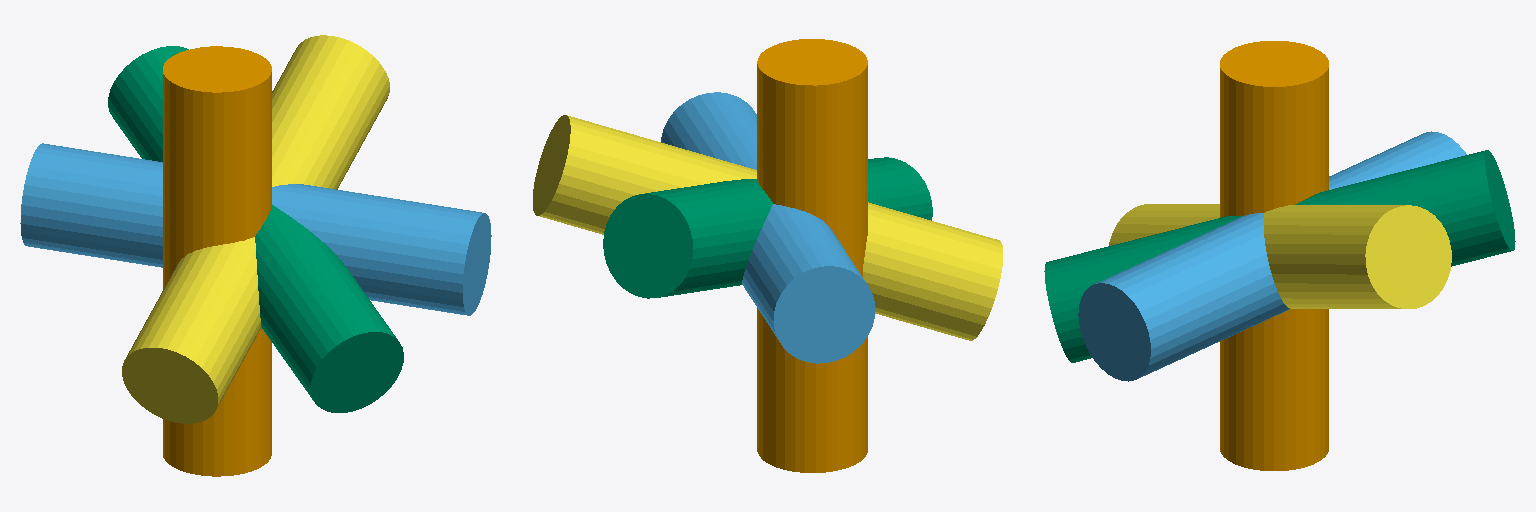
robot.urdf — pepe:
<?xml version="1.0"?><robot name="pepe">
	<link name="0">
		<visual>
			<geometry>
				<cylinder length="3.489037125475815" radius="0.45186644183614755"/>
			</geometry>
		</visual>
		<collision>
			<geometry>
				<cylinder length="3.489037125475815" radius="0.45186644183614755"/>
			</geometry>
		</collision>
		<inertial>
			<mass value="2.238080184220572"/>
			<inertia ixx="0.03" iyy="0.03" izz="0.03" ixy="0" ixz="0" iyx="0"/>
		</inertial>
	</link>
	<link name="11">
		<visual>
			<geometry>
				<cylinder length="3.7894306942223532" radius="0.429426581632902"/>
			</geometry>
		</visual>
		<collision>
			<geometry>
				<cylinder length="3.7894306942223532" radius="0.429426581632902"/>
			</geometry>
		</collision>
		<inertial>
			<mass value="2.195339487122738"/>
			<inertia ixx="0.03" iyy="0.03" izz="0.03" ixy="0" ixz="0" iyx="0"/>
		</inertial>
	</link>
	<link name="12">
		<visual>
			<geometry>
				<cylinder length="3.7894306942223532" radius="0.429426581632902"/>
			</geometry>
		</visual>
		<collision>
			<geometry>
				<cylinder length="3.7894306942223532" radius="0.429426581632902"/>
			</geometry>
		</collision>
		<inertial>
			<mass value="2.195339487122738"/>
			<inertia ixx="0.03" iyy="0.03" izz="0.03" ixy="0" ixz="0" iyx="0"/>
		</inertial>
	</link>
	<link name="13">
		<visual>
			<geometry>
				<cylinder length="3.7894306942223532" radius="0.429426581632902"/>
			</geometry>
		</visual>
		<collision>
			<geometry>
				<cylinder length="3.7894306942223532" radius="0.429426581632902"/>
			</geometry>
		</collision>
		<inertial>
			<mass value="2.195339487122738"/>
			<inertia ixx="0.03" iyy="0.03" izz="0.03" ixy="0" ixz="0" iyx="0"/>
		</inertial>
	</link>
	<joint name="11_to_0" type="revolute">
		<parent link="0"/>
		<child link="11"/>
		<axis xyz="0 0 1"/>
		<limit effort="1" upper="-3.1415" lower="3.1415" velocity="1"/>
		<origin rpy="7.963595741671975 1.207146680189356 0.8719670623217749" xyz="0.3938877761883527 0.04531971979903282 0.17895795268787817"/>
	</joint>
	<joint name="12_to_0" type="revolute">
		<parent link="0"/>
		<child link="12"/>
		<axis xyz="0 0 1"/>
		<limit effort="1" upper="-3.1415" lower="3.1415" velocity="1"/>
		<origin rpy="11.945393612507964 1.207146680189356 0.8719670623217749" xyz="0.3938877761883527 0.04531971979903282 0.17895795268787817"/>
	</joint>
	<joint name="13_to_0" type="revolute">
		<parent link="0"/>
		<child link="13"/>
		<axis xyz="0 0 1"/>
		<limit effort="1" upper="-3.1415" lower="3.1415" velocity="1"/>
		<origin rpy="15.92719148334395 1.207146680189356 0.8719670623217749" xyz="0.3938877761883527 0.04531971979903282 0.17895795268787817"/>
	</joint>
</robot>

--- Facts derived from the render (not from the file) ---
Views: 3 orthographic renders of the robot side by side, from view 1: azimuth 30°, elevation 25°; view 2: azimuth 150°, elevation 25°; view 3: azimuth 270°, elevation 25°.
Robot: pepe — 4 links, 3 joints (3 revolute); root link 0; default pose: all joints at 0.
Links seen in each view (by area): view 1: 11, 13, 0, 12; view 2: 0, 13, 11, 12; view 3: 0, 11, 13, 12.
Link boxes in pixels (bbox=[...]): 11: bbox=[20, 143, 491, 315]; 13: bbox=[122, 35, 389, 423]; 0: bbox=[163, 46, 271, 476]; 12: bbox=[108, 46, 403, 412]; 0: bbox=[757, 39, 867, 472]; 13: bbox=[533, 115, 1002, 340]; 11: bbox=[661, 92, 874, 363]; 12: bbox=[603, 157, 932, 298]; 0: bbox=[1220, 41, 1328, 470]; 11: bbox=[1078, 131, 1466, 381]; 13: bbox=[1109, 204, 1451, 308]; 12: bbox=[1044, 150, 1515, 362].
Size in the robot's own frame: 3.42 by 3.87 by 3.49 metres.
Geometry: primitives only (box / cylinder / sphere), no mesh files.
